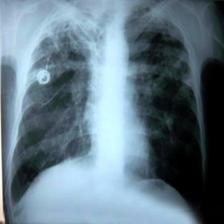tuberculosis: (7, 0, 206, 224)
